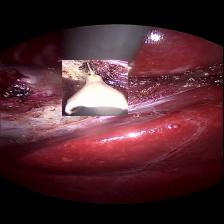Hook: (62, 59, 128, 115)
